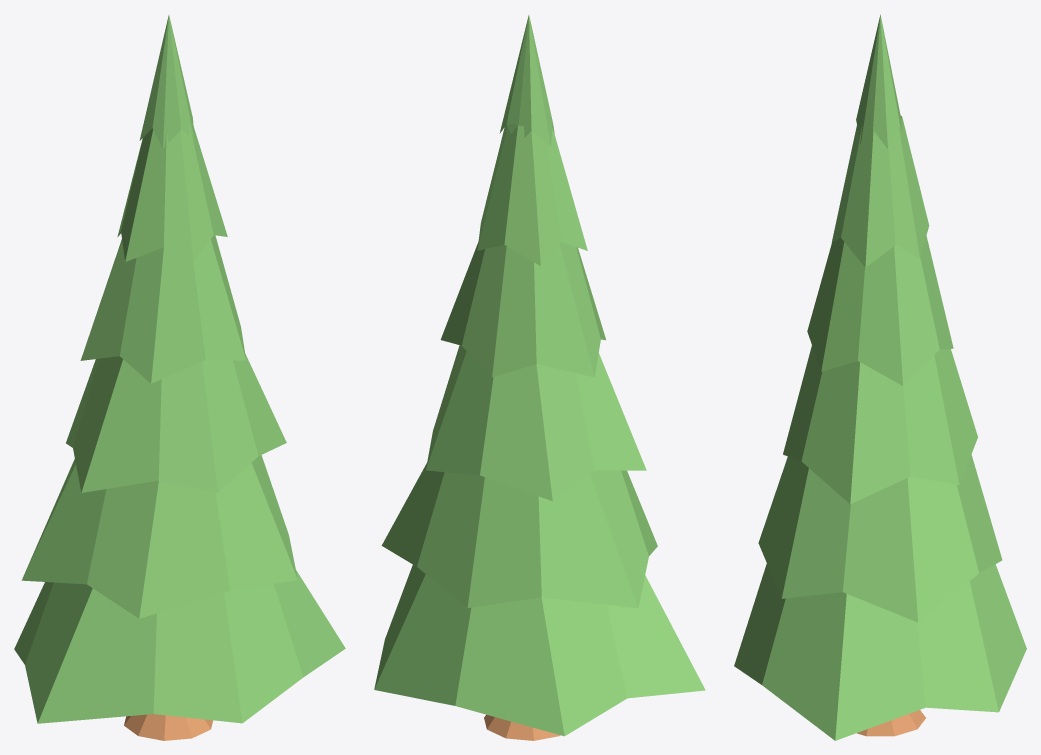
Rendered from Tanne1.fbx.
3 renders of one model, left to right at view 1: azimuth 30°, elevation 25°; view 2: azimuth 150°, elevation 25°; view 3: azimuth 270°, elevation 25°, orthographic.
Parts seen in each view (by area): view 1: Tanne; view 2: Tanne; view 3: Tanne.
Part boxes in pixels (x1,y1,x2,y2): Tanne: [14, 15, 345, 740]; Tanne: [374, 15, 705, 740]; Tanne: [734, 14, 1026, 740].
Size of the model in its own units: 685 by 1503 by 567.
